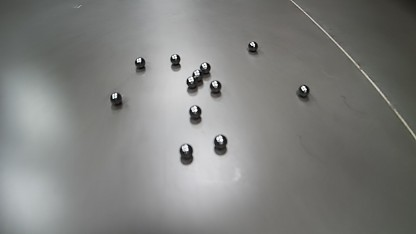ironball: (213, 134, 227, 149), (179, 143, 193, 158), (189, 104, 201, 119), (297, 84, 310, 97), (209, 80, 221, 93), (110, 92, 122, 105), (199, 62, 211, 74), (186, 76, 197, 89), (192, 69, 202, 82), (134, 57, 145, 68), (247, 41, 258, 52), (170, 53, 180, 65)
